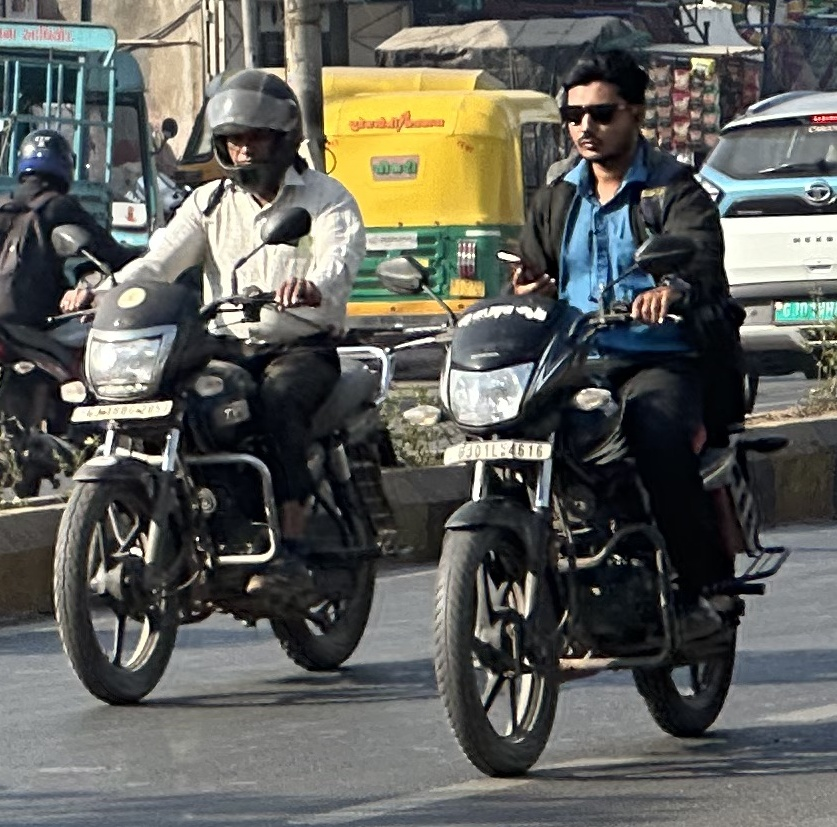BikeWithRider: (400, 41, 799, 785), (40, 63, 409, 709), (0, 119, 152, 504)
Helmet: (201, 66, 307, 191), (9, 123, 82, 199)
NoHelmet: (556, 47, 654, 172)
